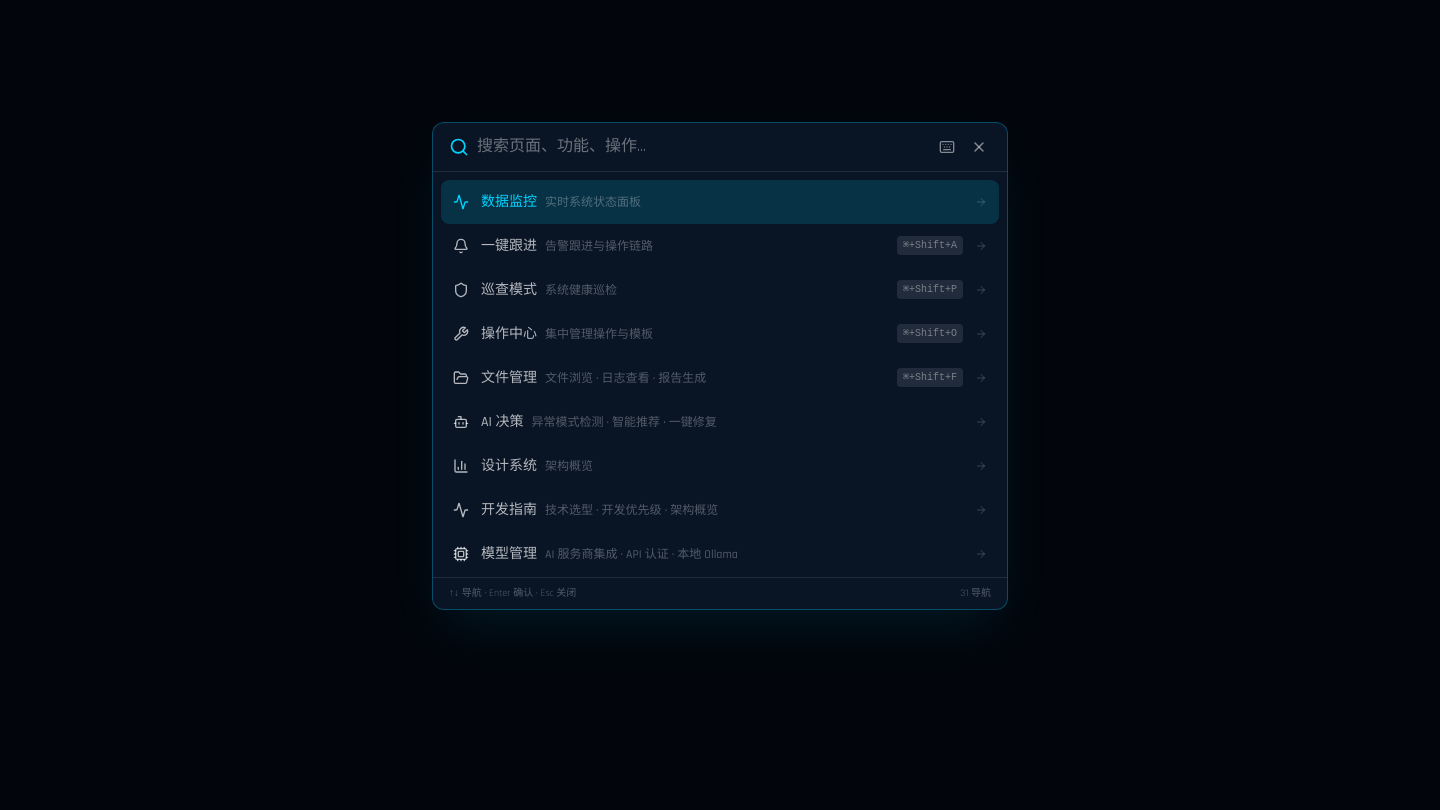
Test: CommandPalette › 搜索筛选 › 无匹配时应显示空提示
Type "zzzzzzz" into the field with test id "palette-input". click: [702, 146]
box: [477,134,927,158]
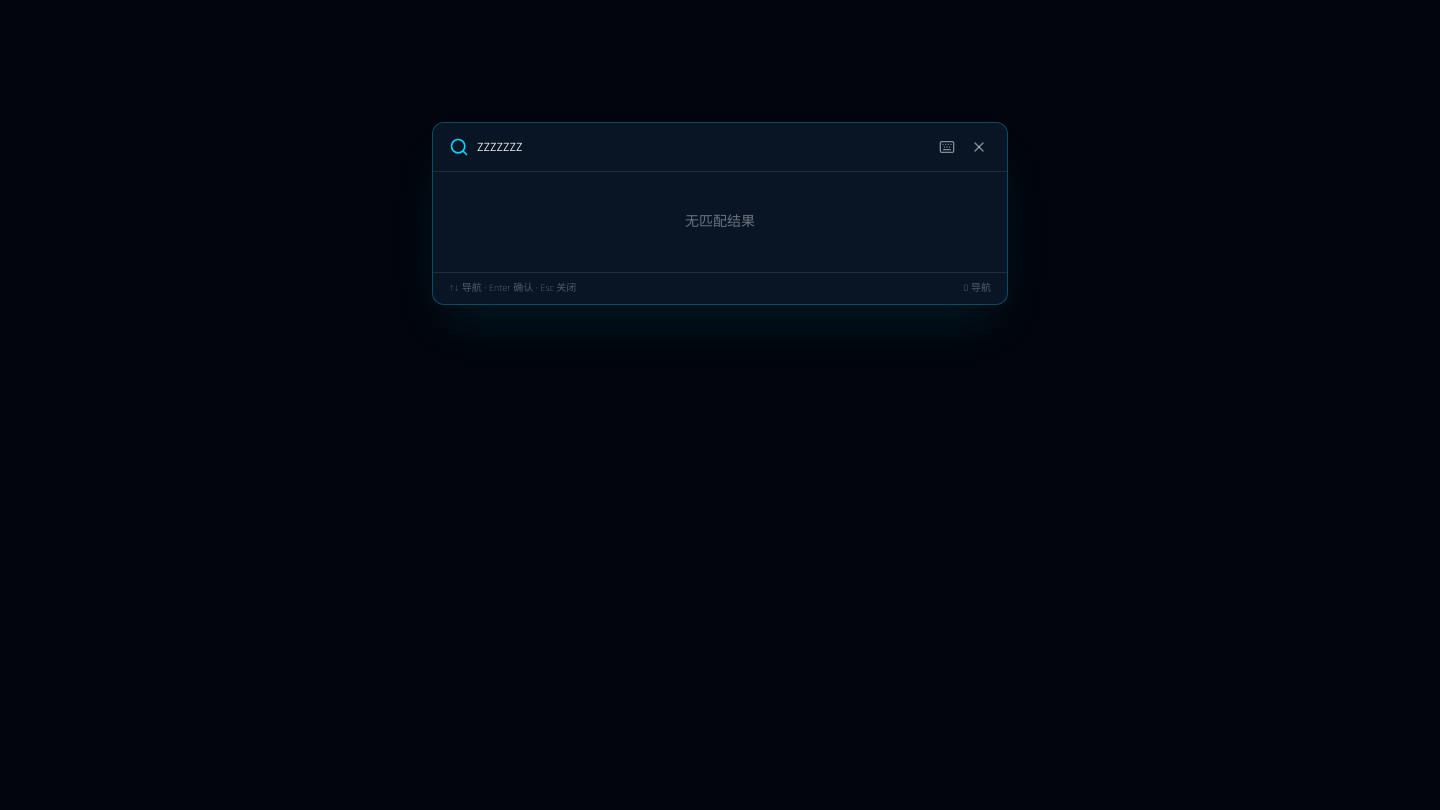
Expected: the text "无匹配结果" is shown, [685,212,755,230]
